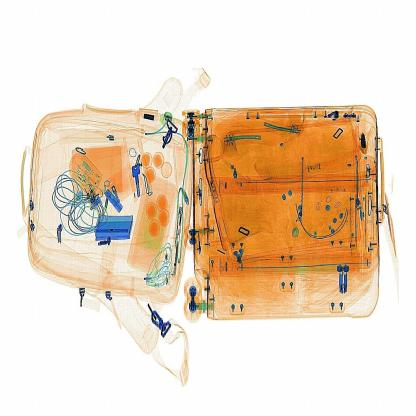wrench: (357, 129, 373, 156)
